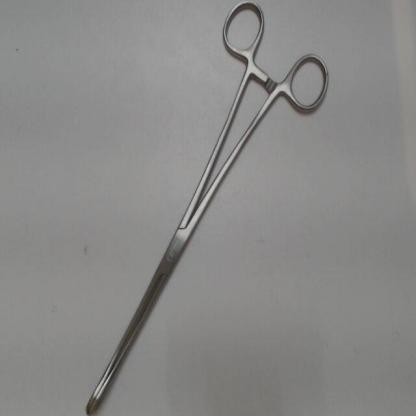Sponge Forceps: (80, 1, 333, 415)
